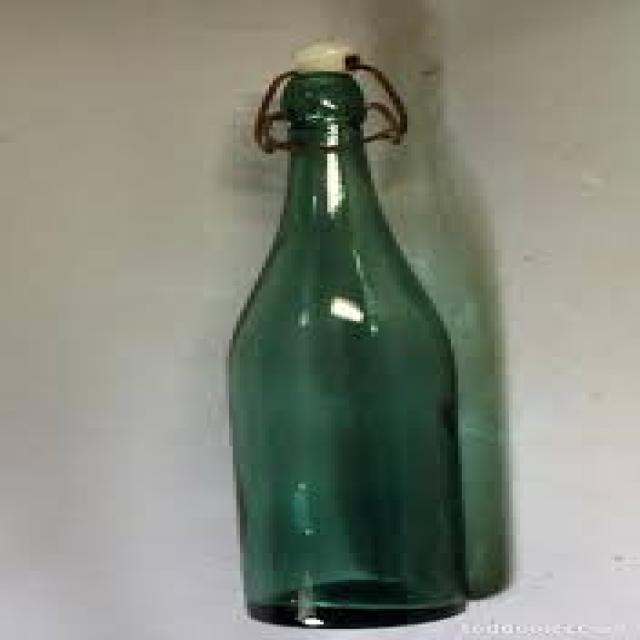glass: (222, 71, 473, 629)
plastic: (280, 38, 360, 73)
